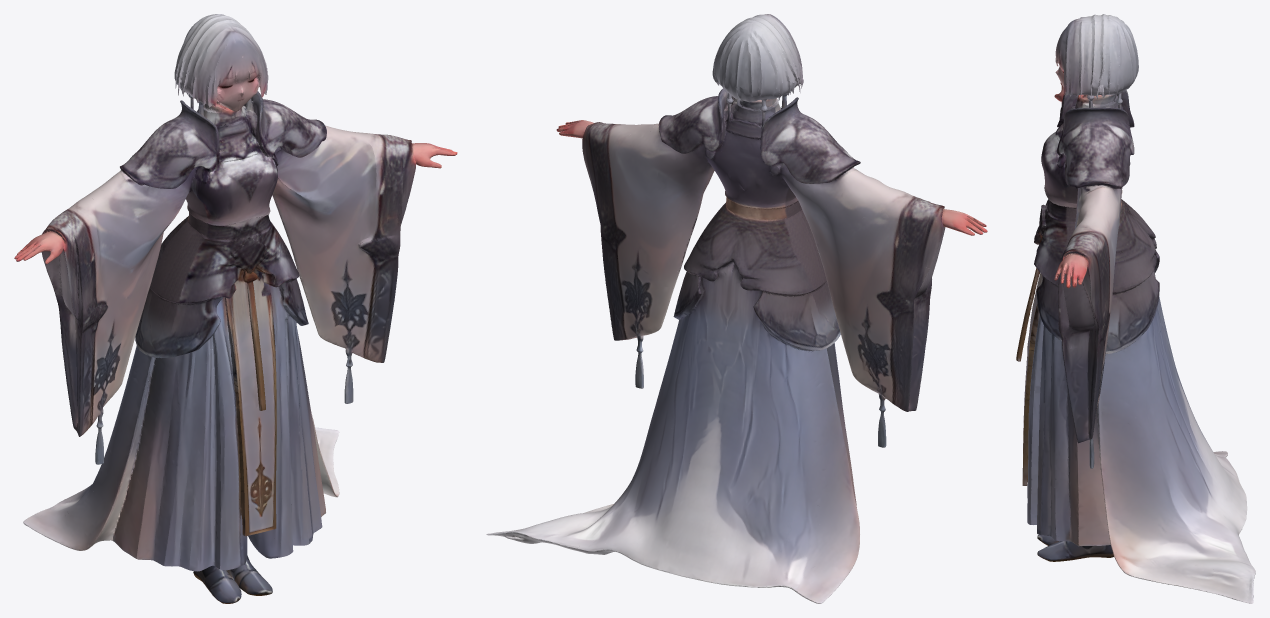
The model's file is base_basic_pbr.fbx.
The picture shows the model from 3 angles, left to right: view 1: azimuth 30°, elevation 25°; view 2: azimuth 150°, elevation 25°; view 3: azimuth 270°, elevation 25°; orthographic projection. The views are drawn at different scales.
Visible parts, largest first — view 1: model; view 2: model; view 3: model.
Part boxes in pixels (box(x1,y1,x2,y2)): model: box(14, 14, 457, 603); model: box(486, 14, 987, 603); model: box(1016, 14, 1255, 603).
Size of the model in its own units: 156 by 190 by 77.07.
Materials: 1 (1 with a texture image).
